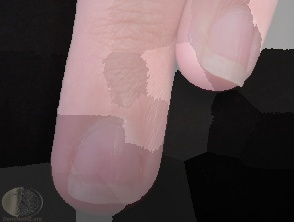Nail_psoriasis: (61, 157, 150, 209), (78, 105, 139, 136)
